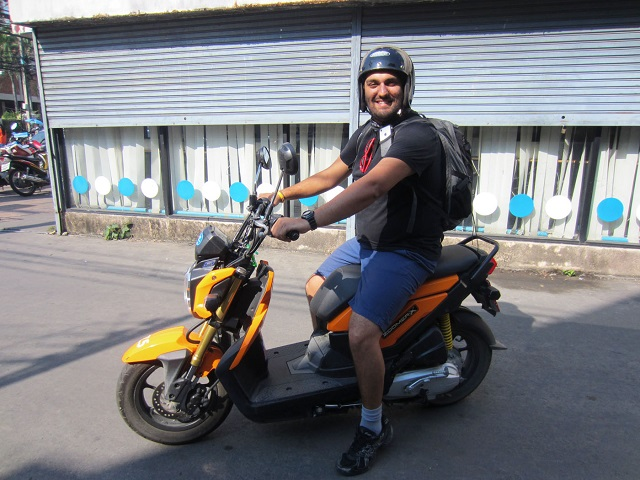bike: (117, 199, 501, 433), (4, 135, 50, 191)
person: (307, 45, 457, 468)
